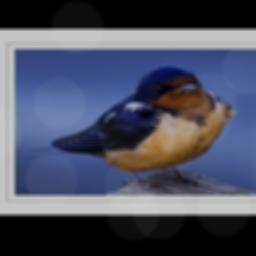Swallow: (23, 63, 239, 193)
